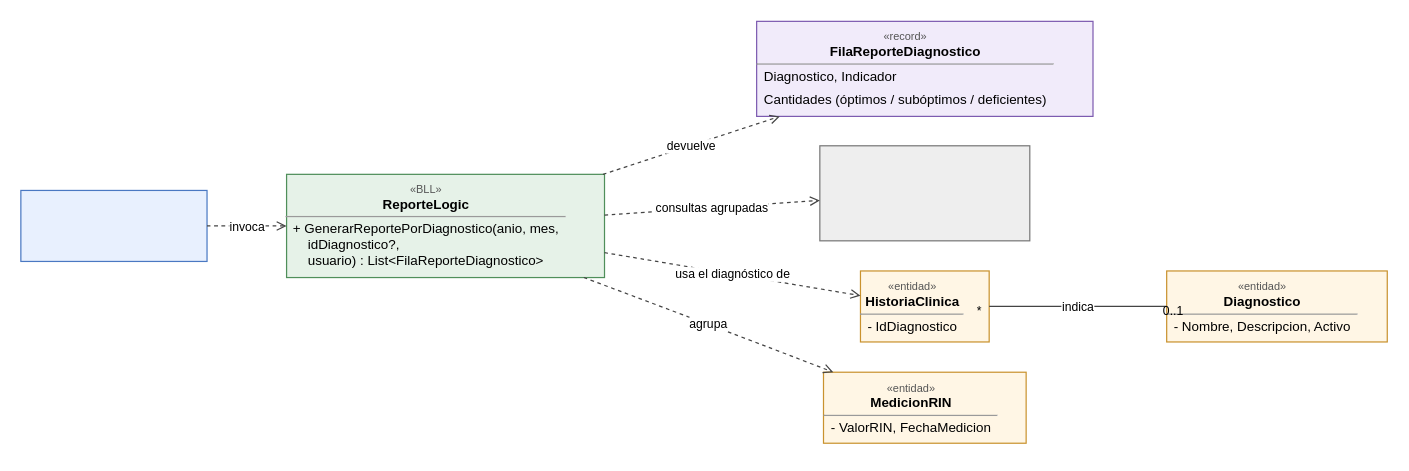
Image size: 1409x471. Some labels were removed from this diagram. The centre of each missing label's shape, as x and y in pixels:
"«EF Core» NegocioDbContext + SaveChanges() : int (firma DVH/DVV y audita)" goes at pixel 924 193.
"«UserControl» ReportesControl (reporte por diagnóstico)" goes at pixel 113 225.
